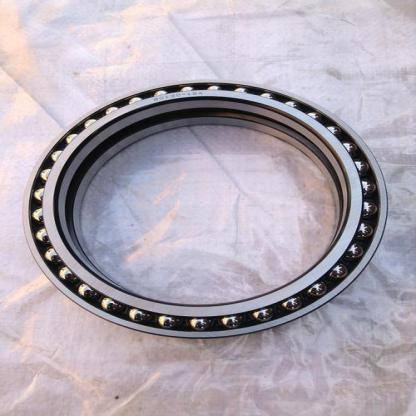FOD: (17, 75, 396, 342)
